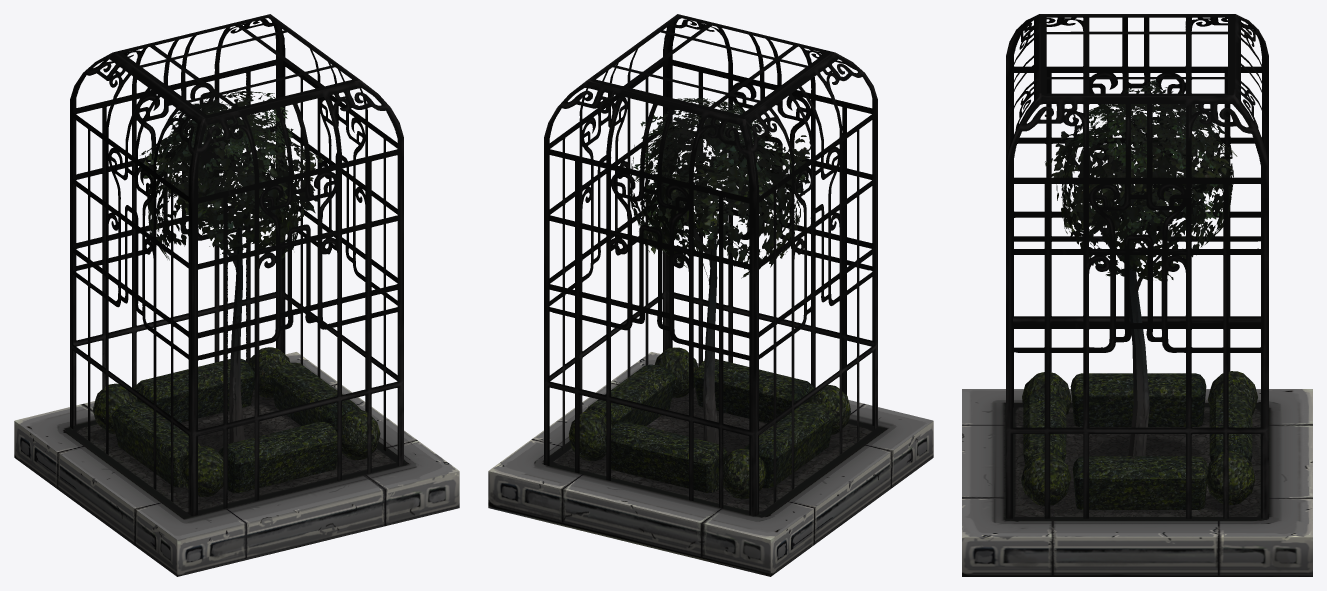
The model's file is tree.fbx.
3 renders of one model, left to right at view 1: azimuth 30°, elevation 25°; view 2: azimuth 150°, elevation 25°; view 3: azimuth 270°, elevation 25°, orthographic. The views are drawn at different scales.
Parts seen in each view (by area): view 1: Cube.012; view 2: Cube.012; view 3: Cube.012.
Boxes of the visible parts, x1,y1,x2,y2 form: Cube.012: (14,14,459,576); Cube.012: (488,14,933,576); Cube.012: (962,14,1312,576).
Bounding box in the file's own units: 2 × 2.82 × 2.
